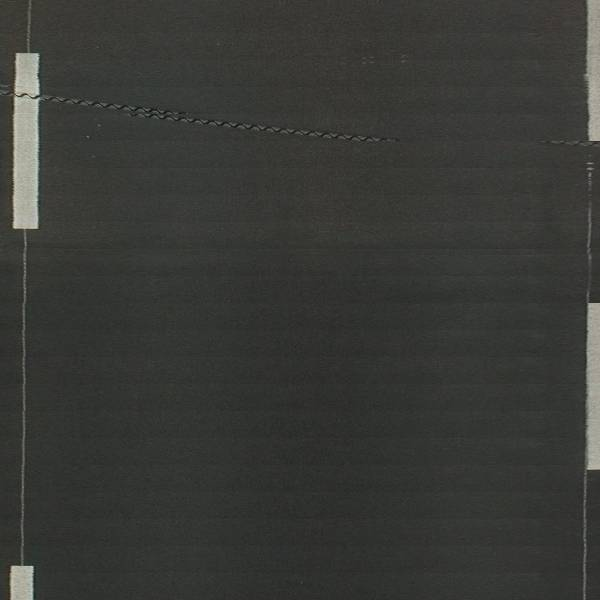road_damage: (40, 93, 402, 150)
